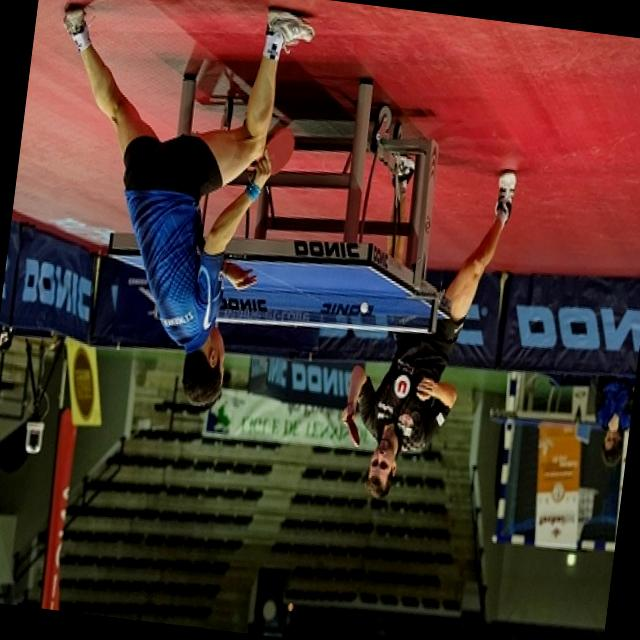TT Net: (211, 281, 440, 332)
TT Racket: (245, 117, 299, 178), (331, 401, 367, 451)
TT Table: (109, 252, 450, 319)
